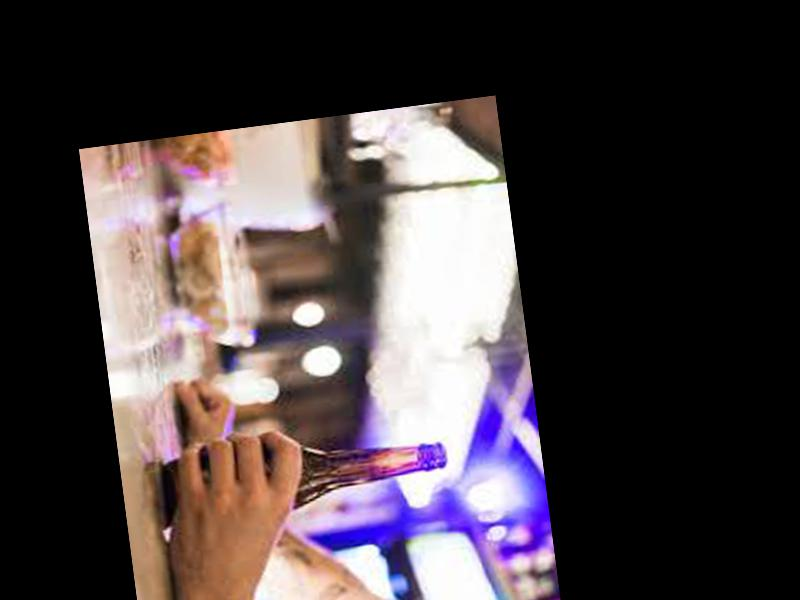Beer: (160, 426, 450, 525)
